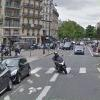Motorcycle: (46, 49, 73, 75)
